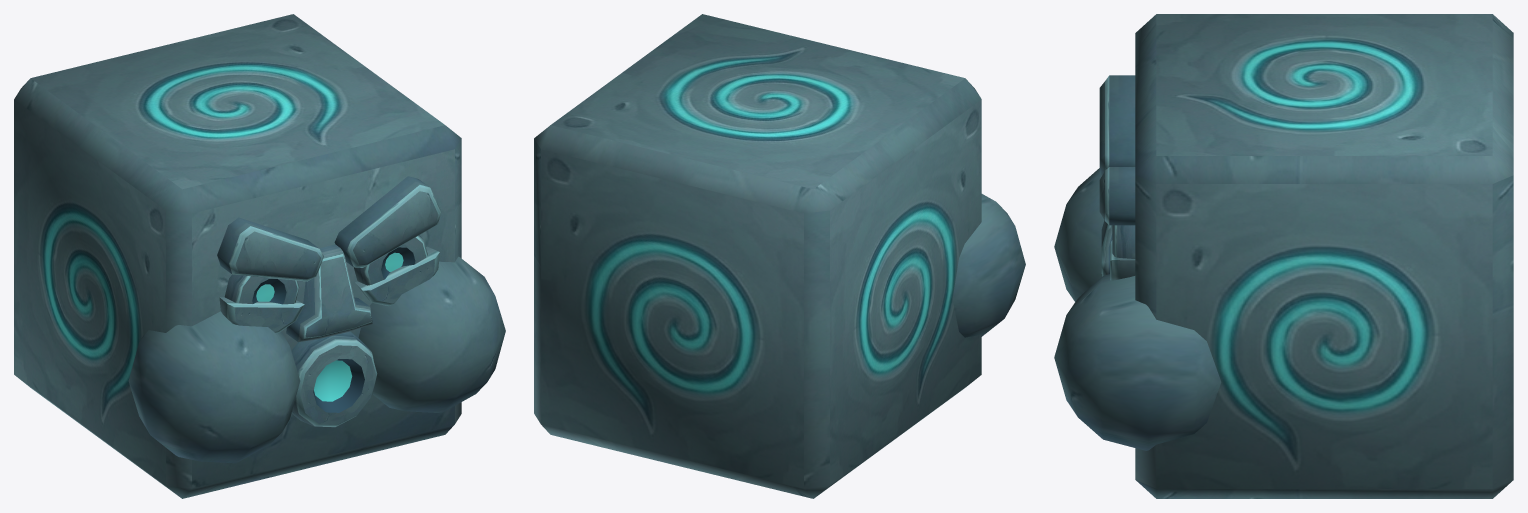
The model's file is WindCube01.glb.
The picture shows the model from 3 angles, left to right: view 1: azimuth 30°, elevation 25°; view 2: azimuth 150°, elevation 25°; view 3: azimuth 270°, elevation 25°; orthographic projection. The views are drawn at different scales.
Visible parts, largest first — view 1: WindCube01; view 2: WindCube01; view 3: WindCube01.
Boxes of the visible parts, <box> form: WindCube01: <box>14,14,505,498</box>; WindCube01: <box>534,14,1025,498</box>; WindCube01: <box>1054,14,1513,498</box>.
Size of what is drawn, in the model's own units: 2.55 by 2.13 by 2.59.
Materials: 1 (1 with a texture image).
